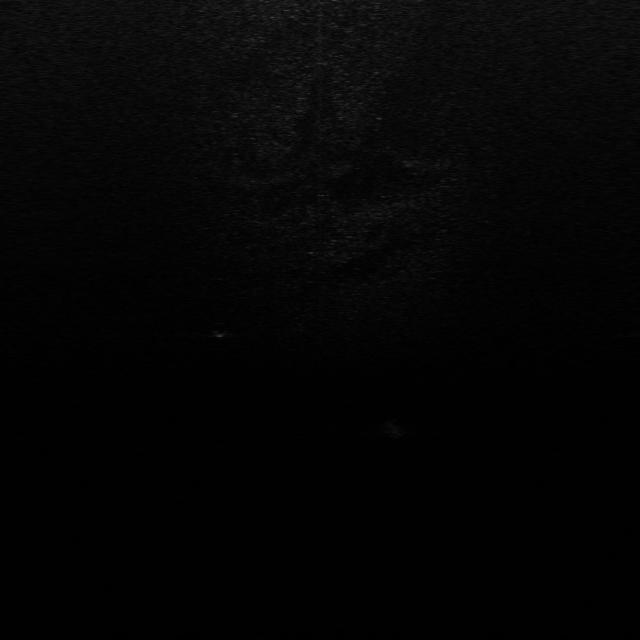ball: (378, 420, 411, 438)
circle cage: (208, 320, 233, 339)
